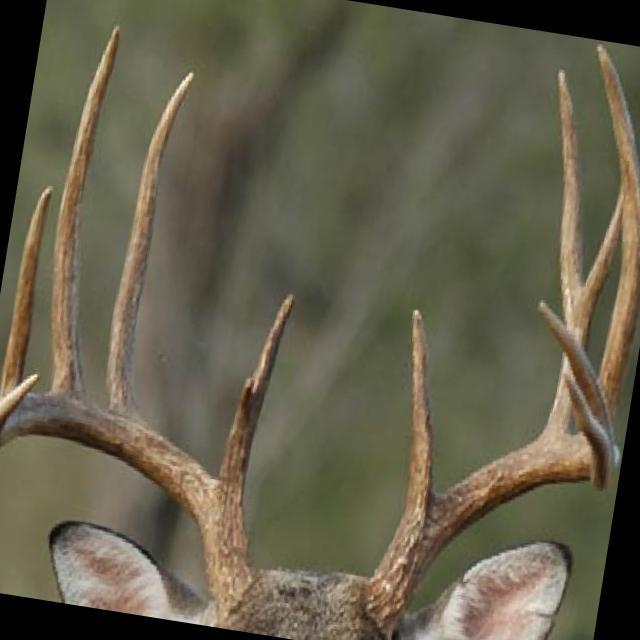L-G1: (393, 308, 440, 532)
R-F: (0, 372, 257, 617)
R-G1: (219, 290, 298, 507)
R-G2: (106, 71, 195, 419)
R-G3: (49, 25, 121, 402)
